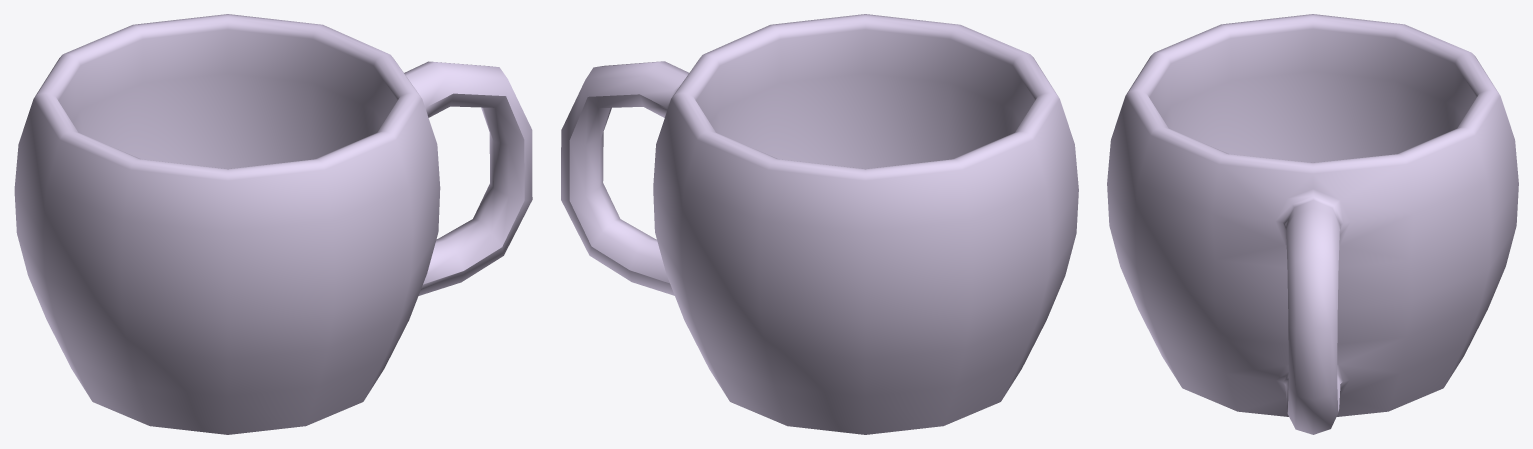
File: mug.fbx
3 renders of one model, left to right at view 1: azimuth 30°, elevation 25°; view 2: azimuth 150°, elevation 25°; view 3: azimuth 270°, elevation 25°, orthographic. The views are drawn at different scales.
Visible parts, largest first — view 1: Mug; view 2: Mug; view 3: Mug.
Boxes of the visible parts, x1,y1,x2,y2 form: Mug: (14, 14, 532, 434); Mug: (561, 14, 1078, 434); Mug: (1107, 14, 1518, 434).
Bounding box in the file's own units: 4.14 × 2.25 × 3.16.
